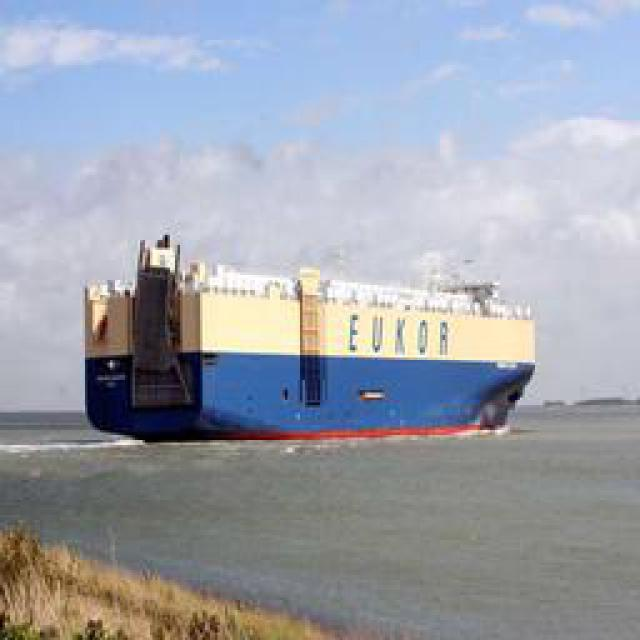Ship: (85, 236, 543, 446)
